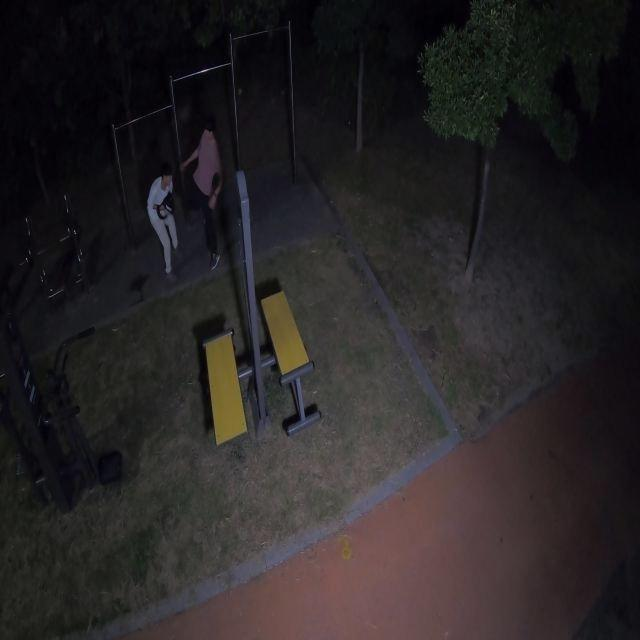fight: (138, 114, 234, 278)
